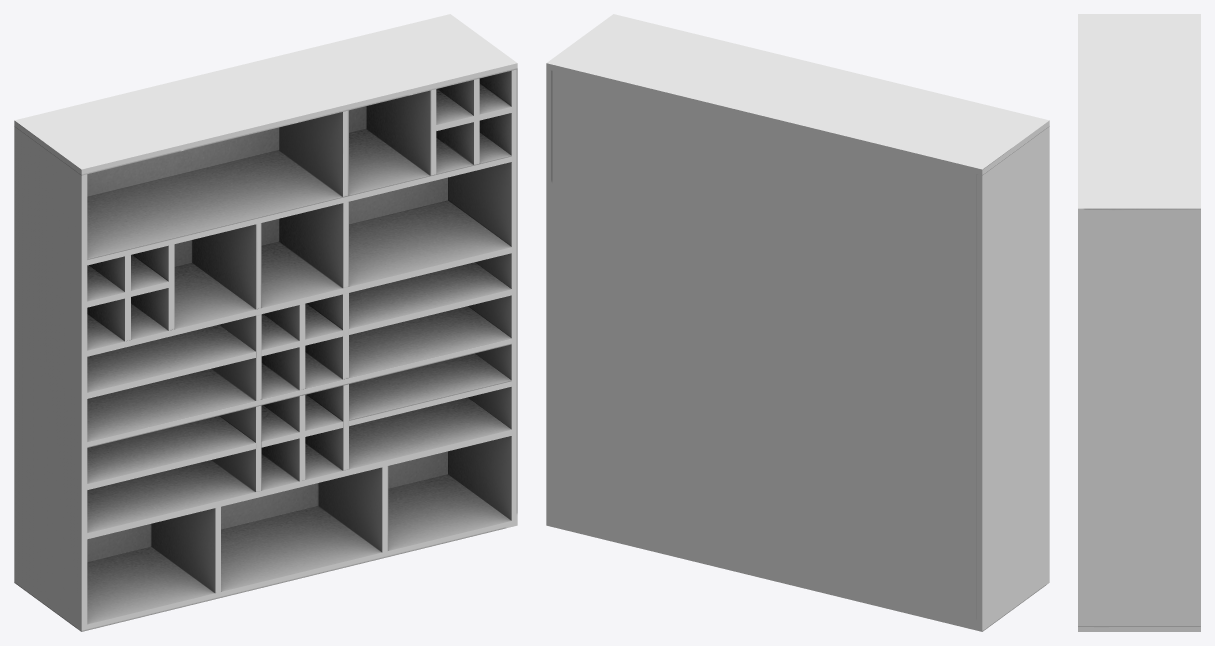
Rendered from shelf_two_plain.glb.
3 renders of one model, left to right at view 1: azimuth 30°, elevation 25°; view 2: azimuth 150°, elevation 25°; view 3: azimuth 270°, elevation 25°, orthographic. The views are drawn at different scales.
Visible parts, largest first — view 1: shelf_two_plain; view 2: shelf_two_plain; view 3: shelf_two_plain.
Part boxes in pixels (box(x1,y1,x2,y2)): shelf_two_plain: box(14, 14, 517, 631); shelf_two_plain: box(546, 14, 1049, 631); shelf_two_plain: box(1078, 14, 1200, 631).
Bounding box in the file's own units: 2.48 × 2.51 × 0.6606.
Materials: 1 (1 with a texture image).
